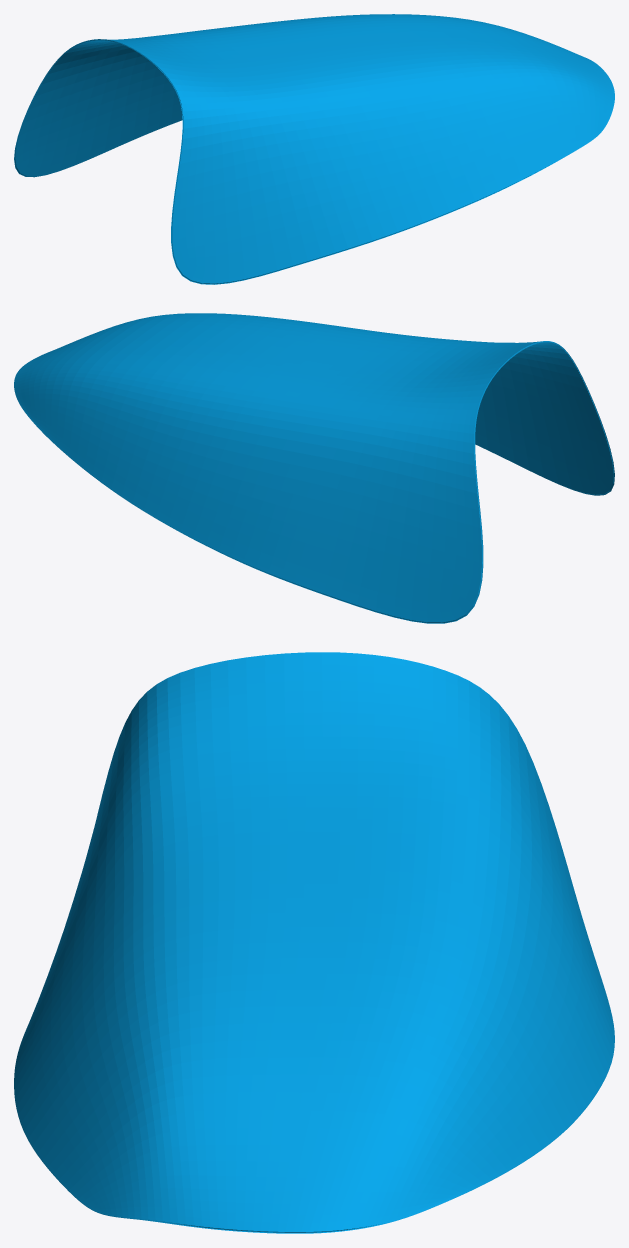
File: frontLeftBLUE.obj
The picture shows the model from 3 angles, top to bottom: view 1: azimuth 30°, elevation 25°; view 2: azimuth 150°, elevation 25°; view 3: azimuth 270°, elevation 25°; orthographic projection. The views are drawn at different scales.
Visible parts, largest first — view 1: Plane; view 2: Plane; view 3: Plane.
Boxes of the visible parts, x1,y1,x2,y2 form: Plane: (14, 14, 614, 284); Plane: (14, 313, 614, 623); Plane: (14, 652, 614, 1233).
Size of the model in its own units: 14.71 by 5.12 by 8.94.
1 material, 1 textured.
